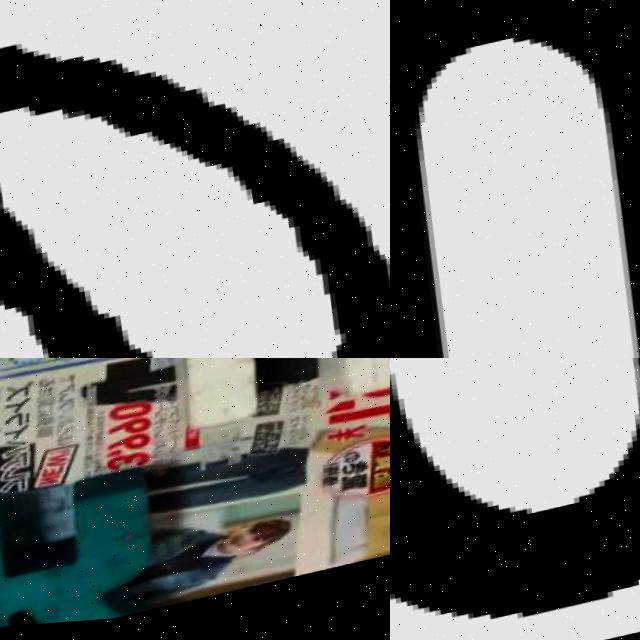H: (167, 358, 390, 444)
K: (0, 465, 176, 635)
O: (0, 42, 390, 358), (390, 358, 640, 623)
U: (390, 0, 640, 358)
